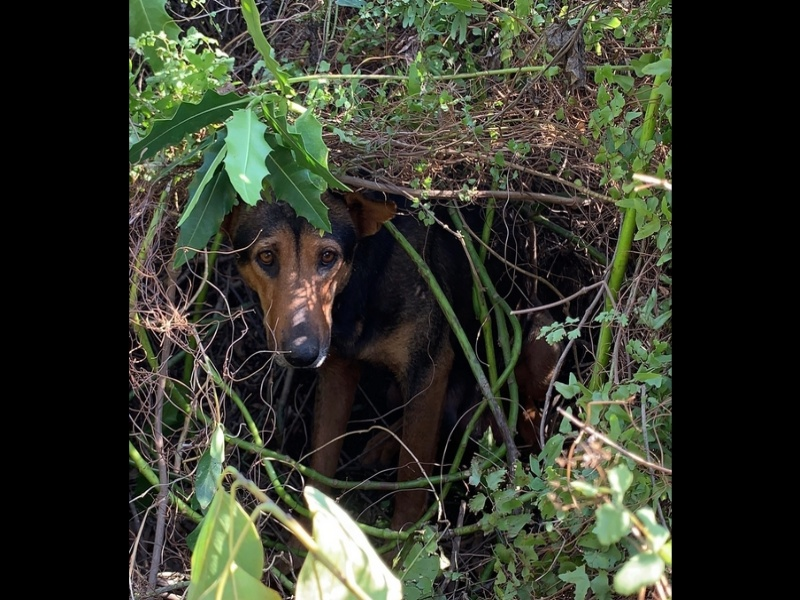dog: (200, 165, 576, 552)
